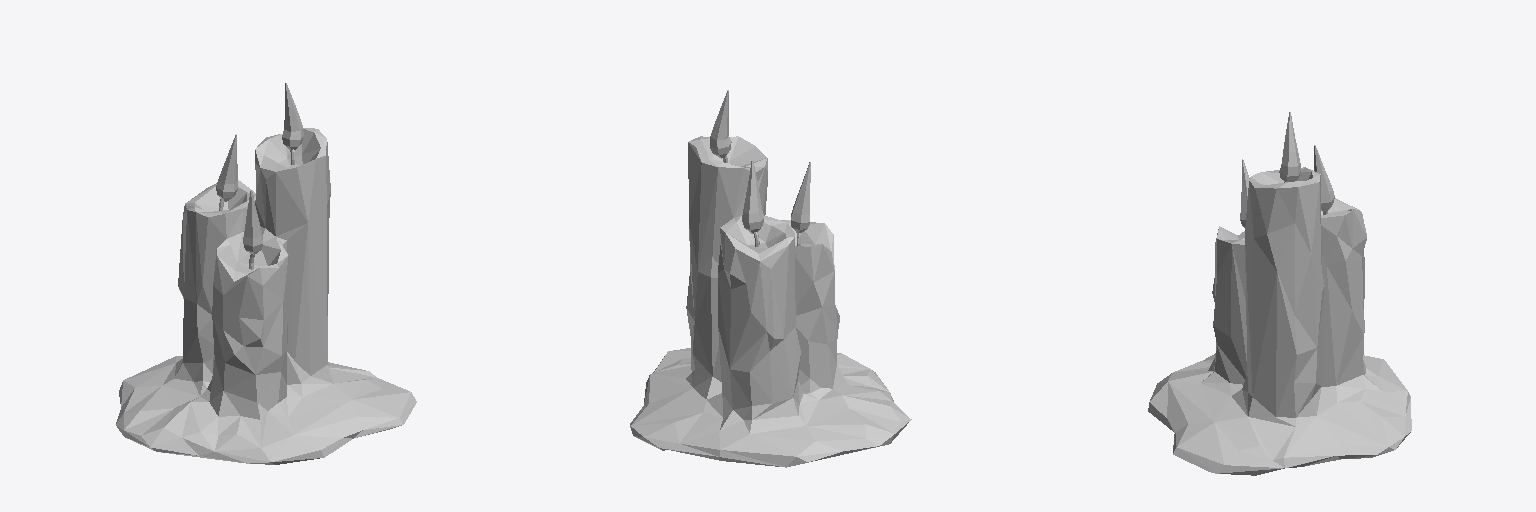
File: candle2.obj
3 views of the same model, side by side, from view 1: azimuth 30°, elevation 25°; view 2: azimuth 150°, elevation 25°; view 3: azimuth 270°, elevation 25° (orthographic).
Visible parts, largest first — view 1: Object003, candleflame003, candleflame002, candleflame001; view 2: Object003, candleflame002, candleflame003, candleflame001; view 3: Object003, candleflame003, candleflame002.
Boxes of the visible parts, <box> form: Object003: <box>116,128,416,464</box>; candleflame003: <box>282,83,303,149</box>; candleflame002: <box>216,134,237,201</box>; candleflame001: <box>243,190,262,254</box>; Object003: <box>630,136,911,467</box>; candleflame002: <box>742,160,763,233</box>; candleflame003: <box>710,90,731,158</box>; candleflame001: <box>791,162,810,232</box>; Object003: <box>1148,167,1411,475</box>; candleflame003: <box>1279,112,1300,181</box>; candleflame002: <box>1314,145,1334,211</box>.
Bounding box in the file's own units: 1.05 × 1.24 × 0.9231.